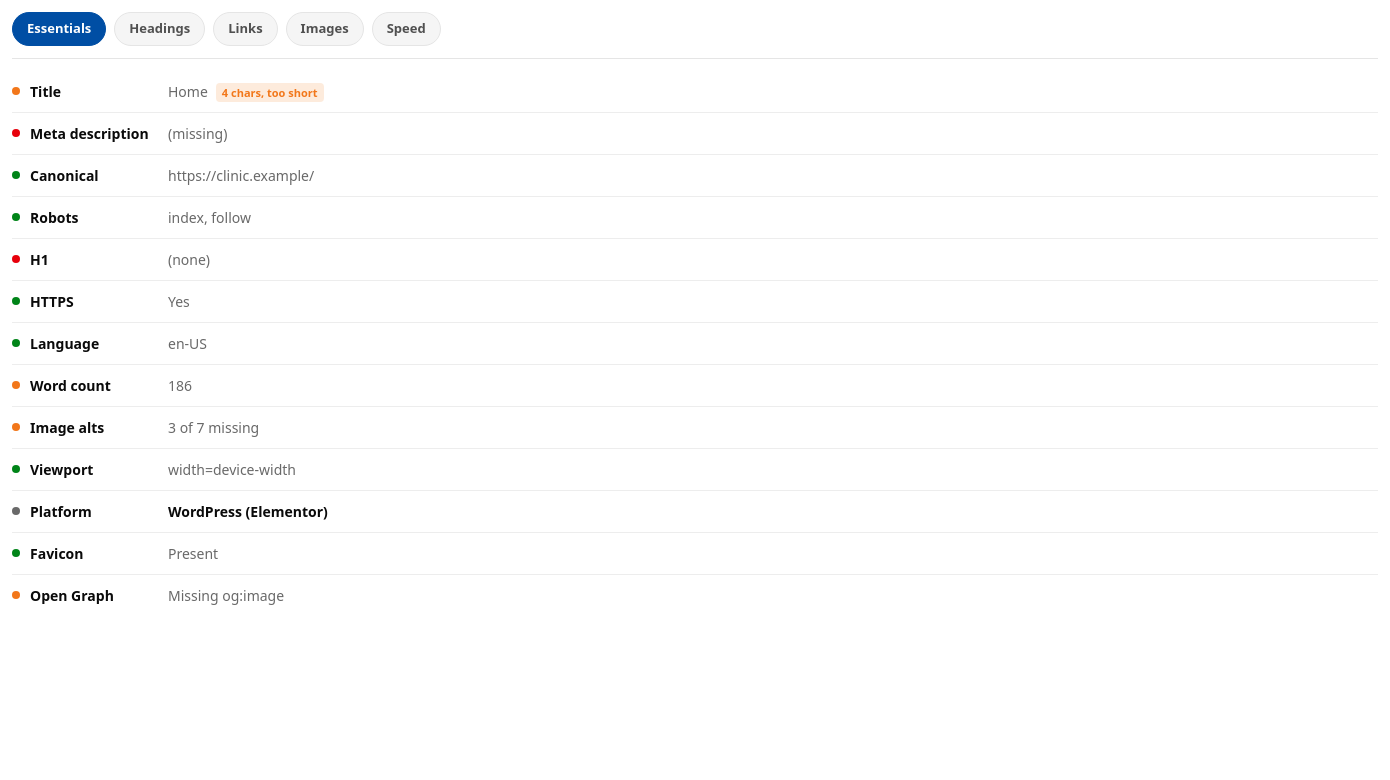
Test: On-Page links › searches link text and URL
Click the button "Links" at (245, 29), box [213, 12, 278, 46]
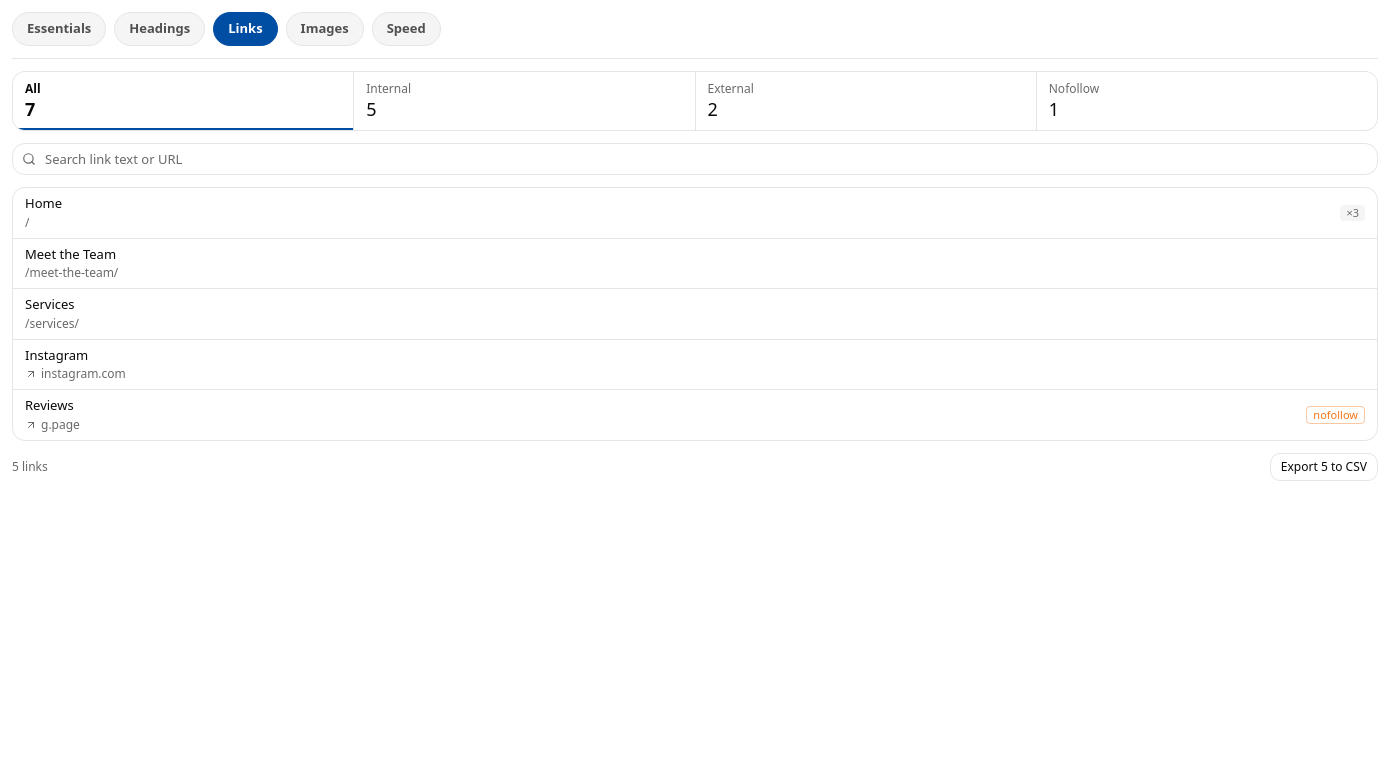
Type "team" into the search field named "Search links" at (695, 159), box [12, 143, 1378, 175]
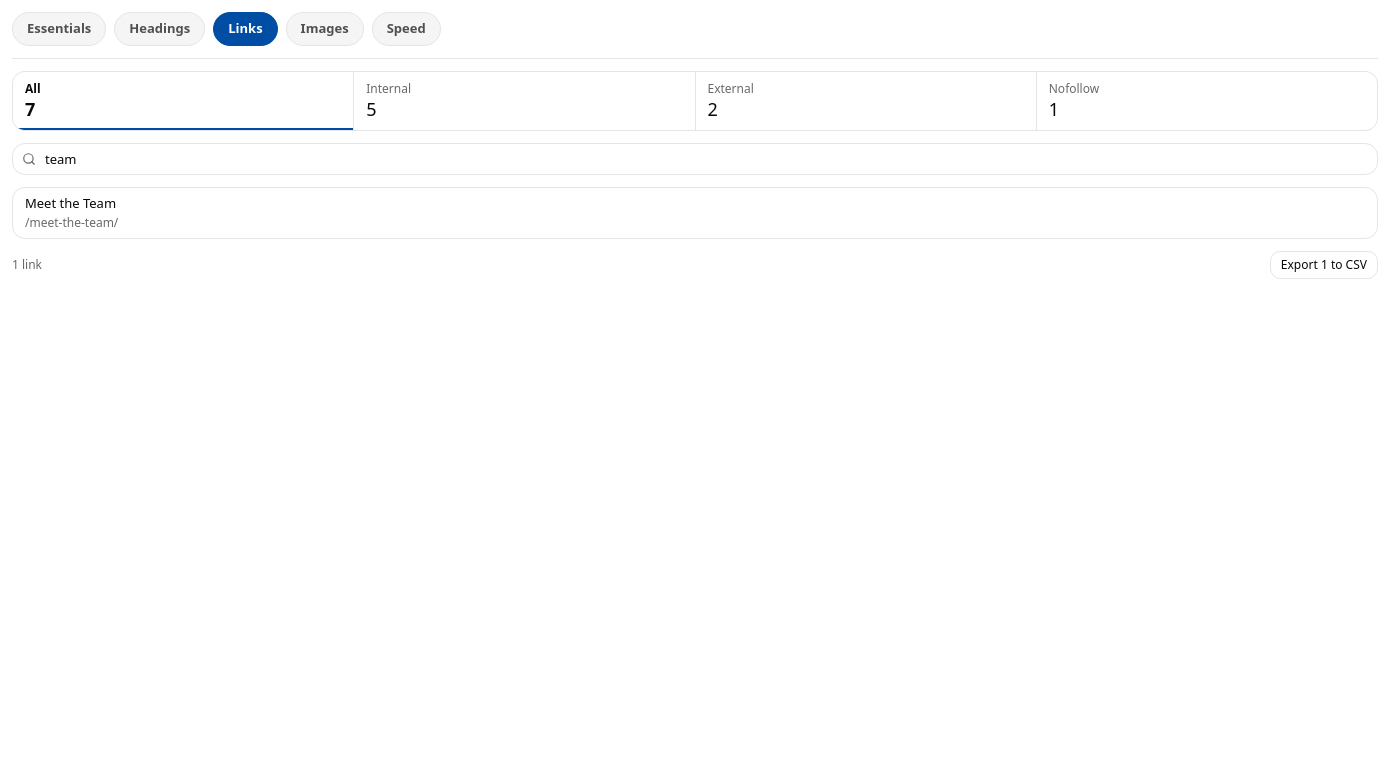
Check: the number of list items is 1, box [25, 194, 118, 230]
Replace the text in the search field named "Search links" with "nothing-matches" at (695, 159), box [12, 143, 1378, 175]
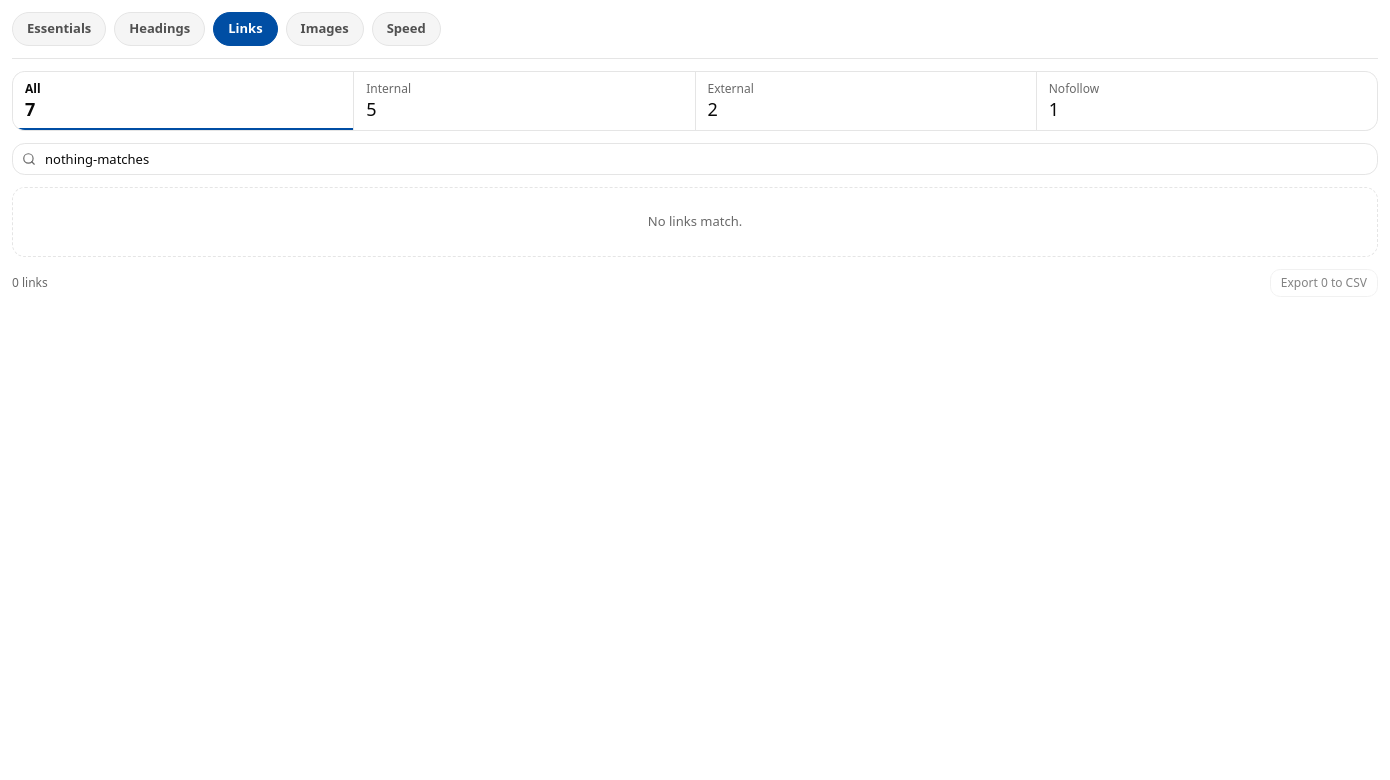
Check: the text "No links match." is shown, box [12, 187, 1378, 256]
